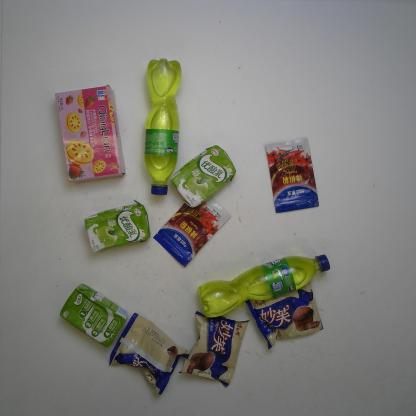Dessert: (54, 82, 127, 185), (106, 312, 190, 396), (178, 310, 250, 388), (244, 281, 326, 349)
Drink: (195, 250, 332, 321), (140, 59, 183, 196)
Milk: (58, 282, 129, 349), (171, 144, 237, 208), (81, 196, 152, 254)
Seasoner: (153, 197, 232, 267), (263, 137, 320, 215)
